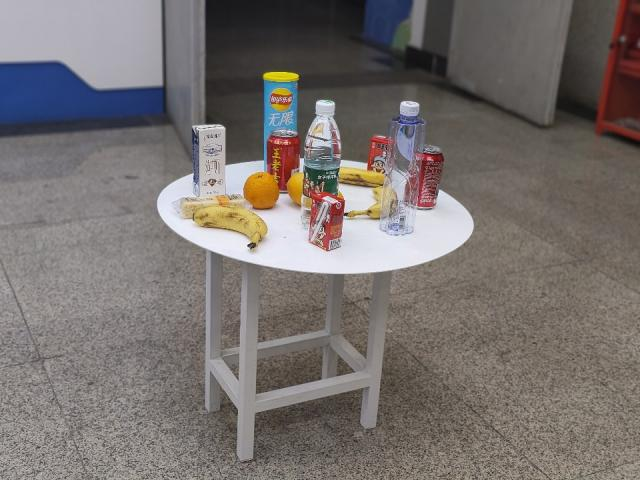Canned_drinks: (422, 142, 443, 211), (272, 131, 298, 180)
bottle: (386, 100, 417, 235), (305, 99, 343, 191)
cylinder: (262, 74, 302, 131)
drink_box: (193, 124, 225, 199), (314, 191, 342, 249), (369, 133, 386, 171), (371, 135, 386, 173)
